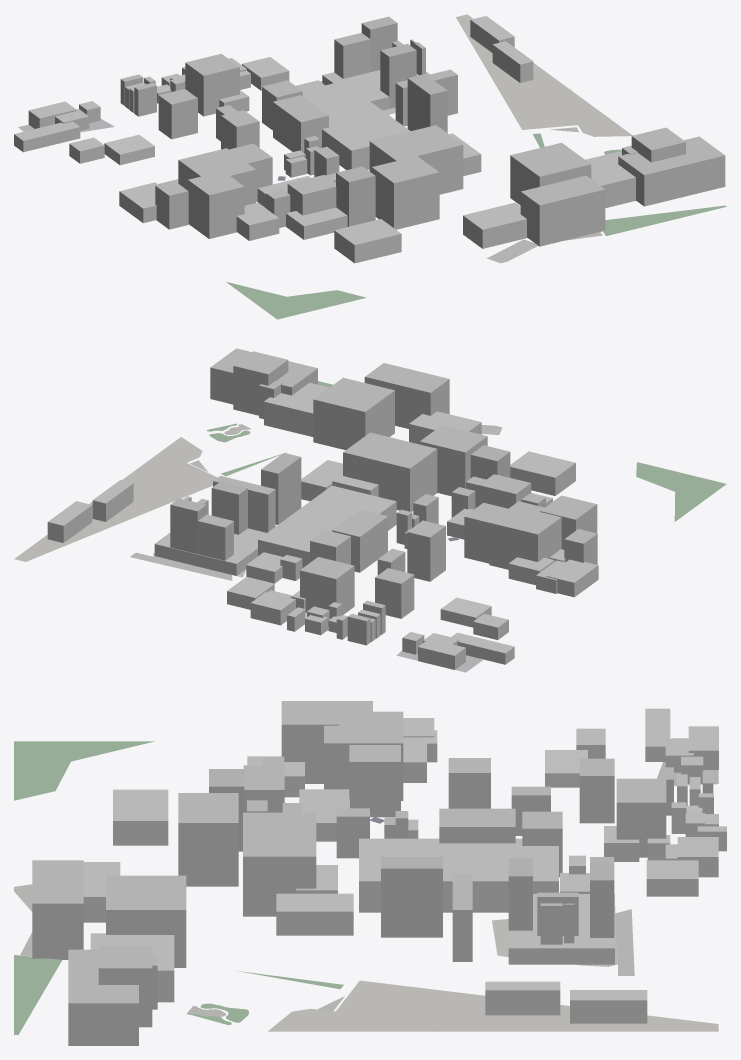
Rendered from 128_91_mid.glb.
3 views of the same model, one above another, from view 1: azimuth 30°, elevation 25°; view 2: azimuth 150°, elevation 25°; view 3: azimuth 270°, elevation 25° (orthographic). The views are drawn at different scales.
Bounding box in the file's own units: 544 × 63.78 × 506.
